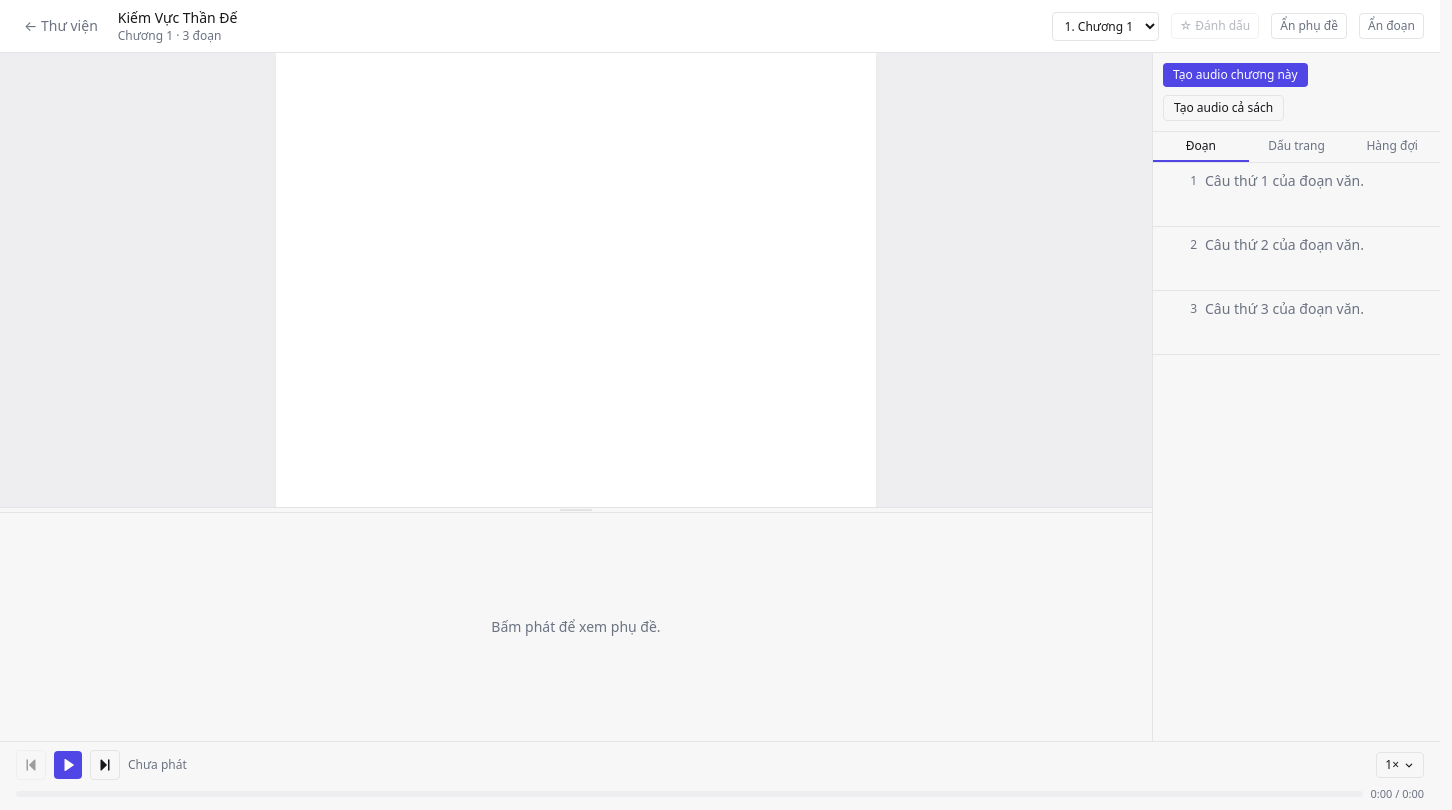
panel phải: ba tab (P5.4) › đóng bảng hàng đợi thì quay về tab Đoạn
What coordinates should you click on to do the following:
click the tab with test id "panel-tab-queue"
I would click on:
 (1392, 147)
Its box is 1344,132 -> 1440,162.
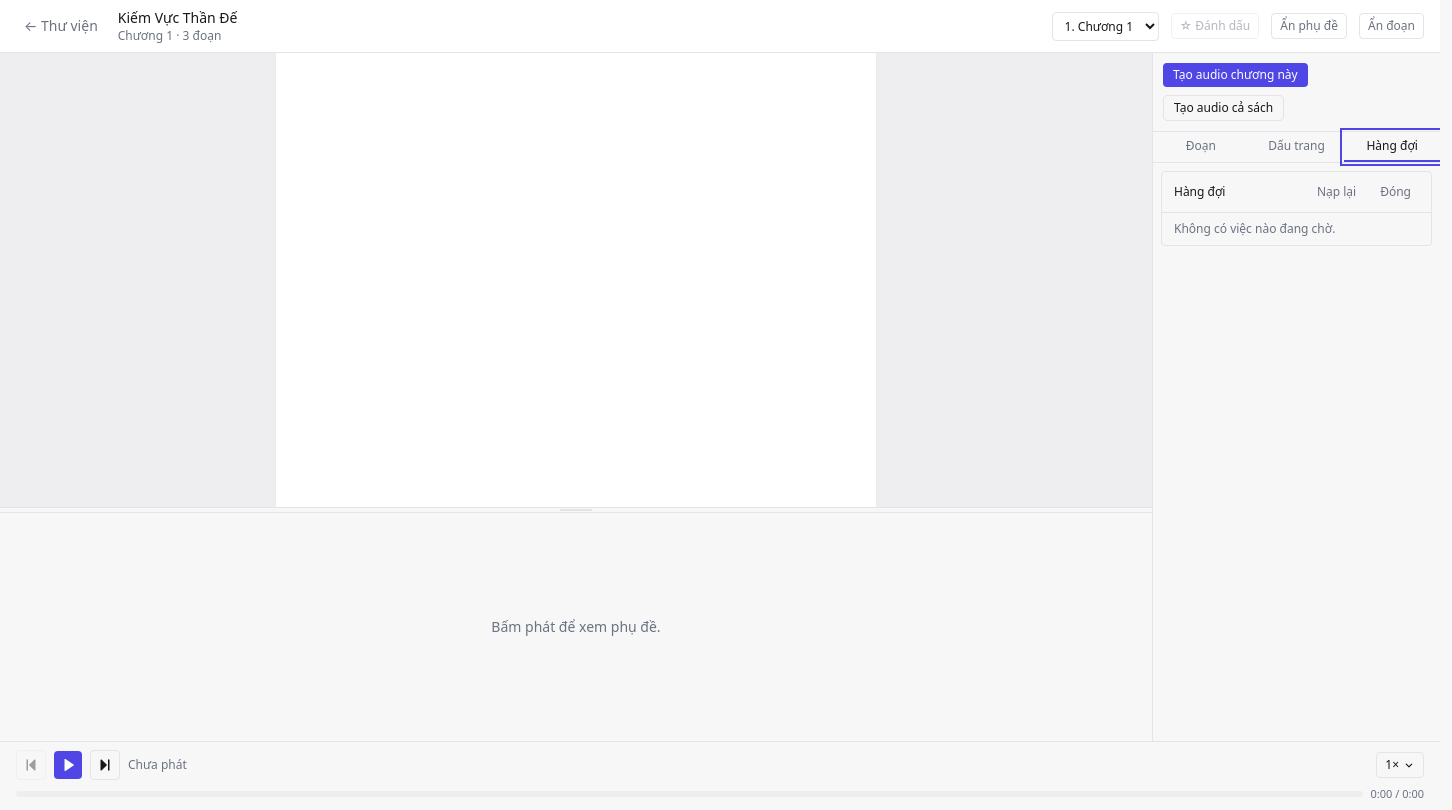
What coordinates should you click on to do the following:
click the button with test id "queue-table-close"
I would click on:
 (1396, 192)
Its box is 1372,180 -> 1419,204.
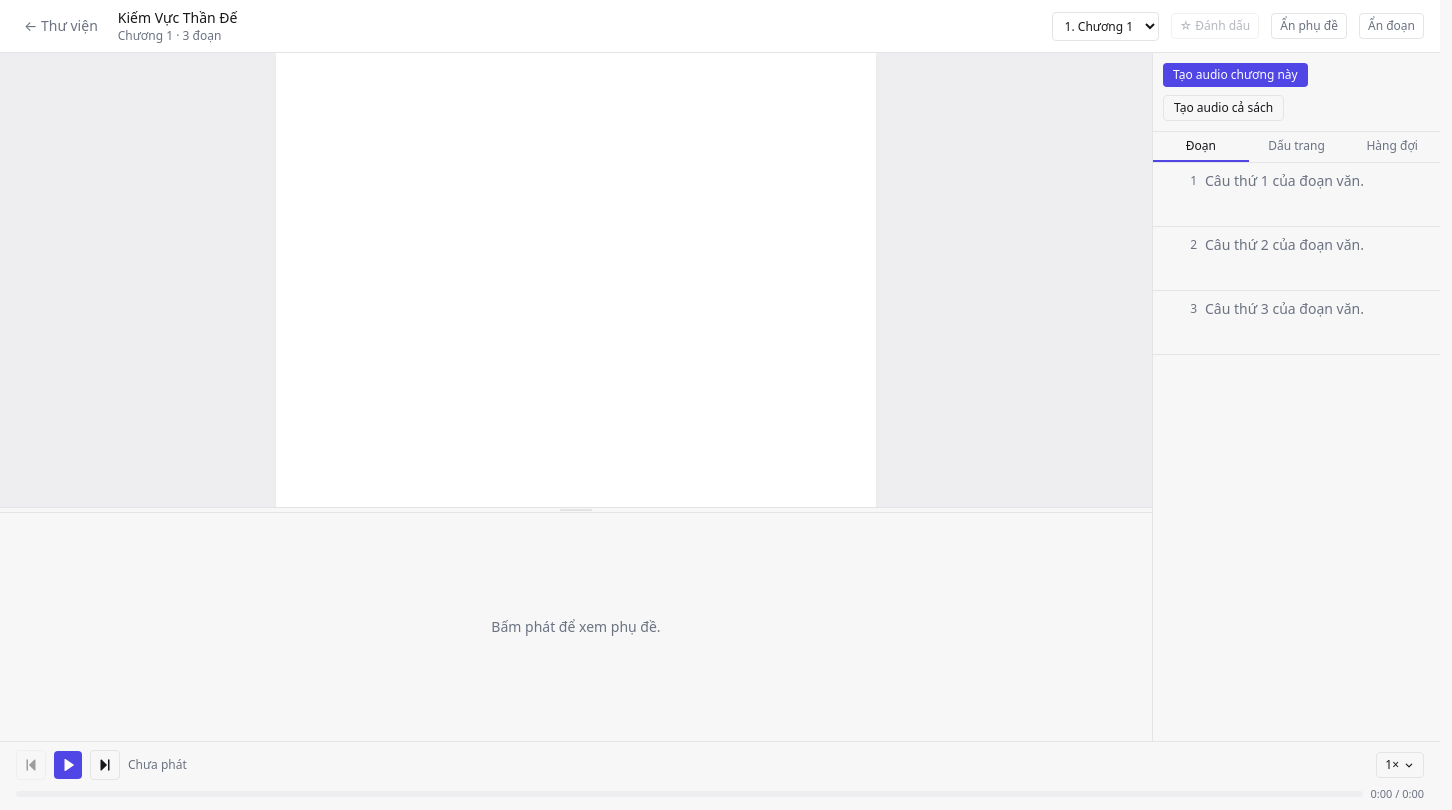
Now the element with test id "segment-scroll" is shown, box 1153,163 -> 1440,355
